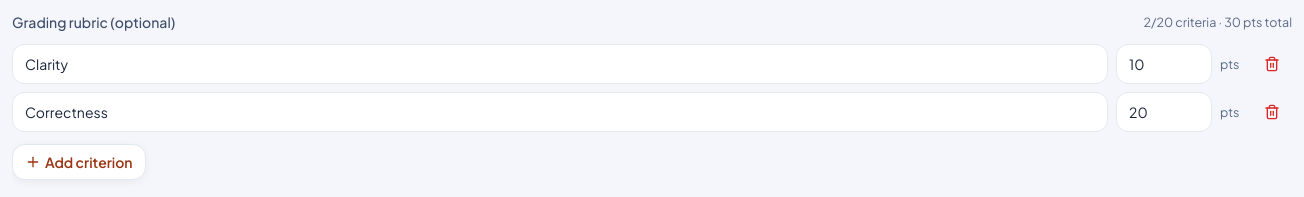
Scenario: RubricEditor › removes a criterion
Expected: the text "2/20 criteria · 30 pts total" is shown, [1144,14,1292,30]
Click the button named "remove criterion 1": x=1272, y=64 [1252,46,1292,82]
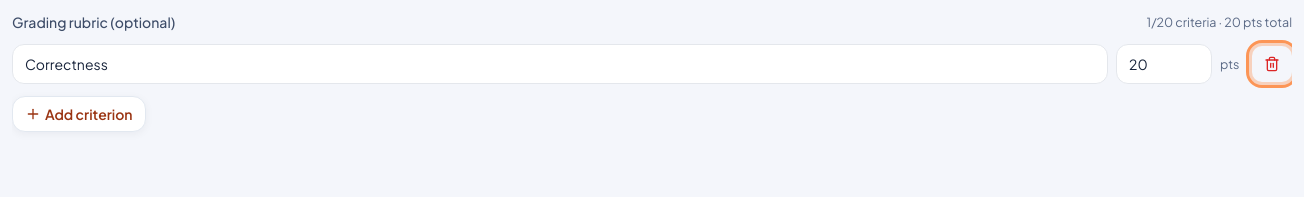
Now the text "1/20 criteria · 20 pts total" is shown, box [1146,14,1292,30]
Now the field named "Criterion 1 name" holds "Correctness", box [12,44,1108,84]
